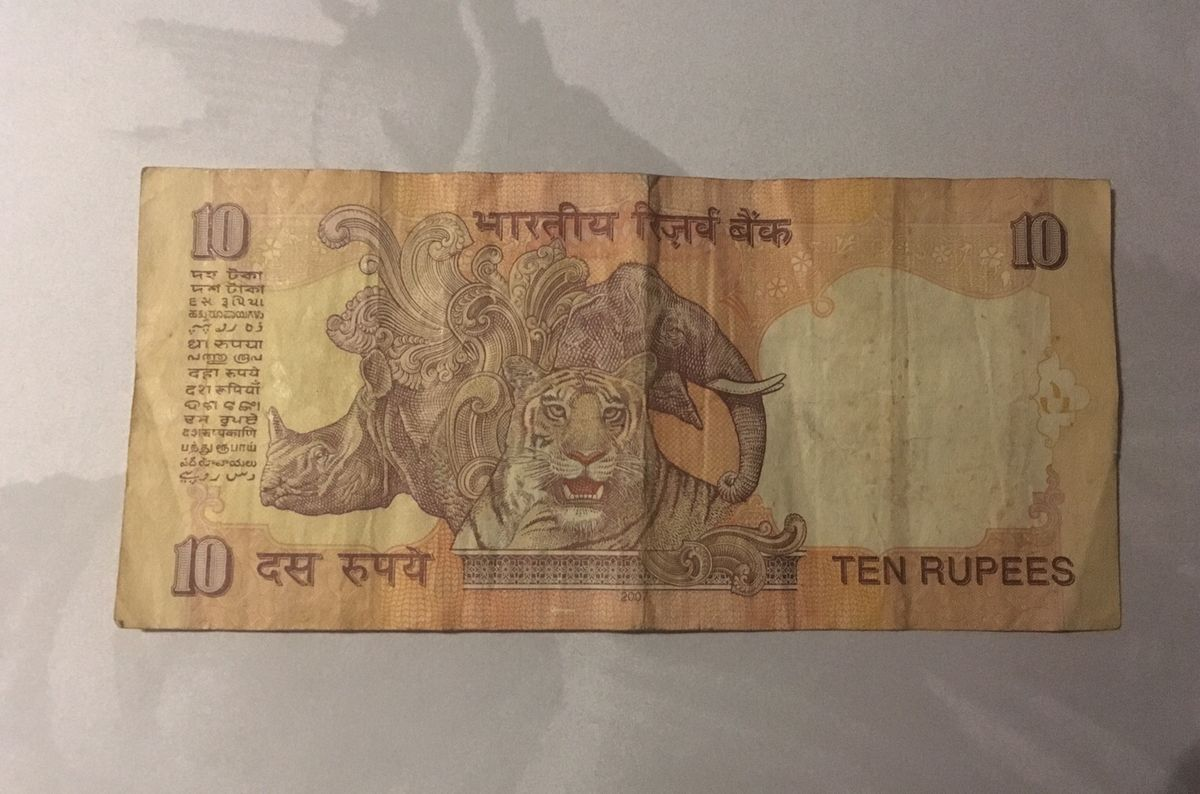ten_rupees_note: (118, 162, 1125, 630)
